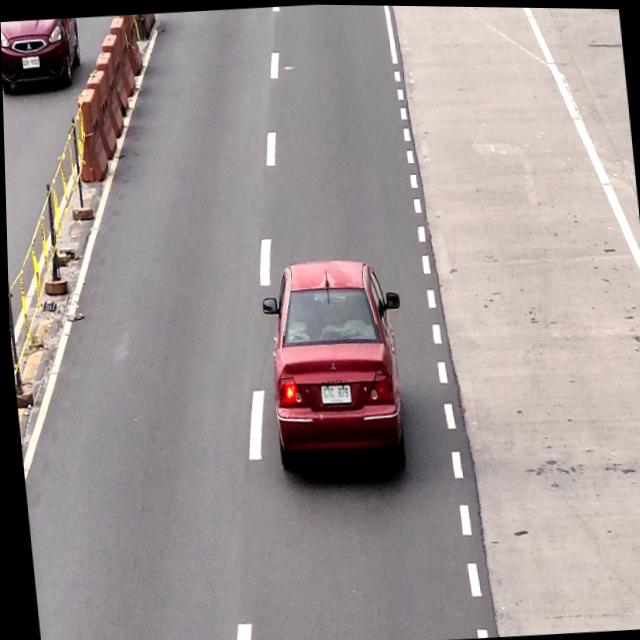Car: (257, 256, 406, 469)
License-Plate: (315, 380, 350, 403)
